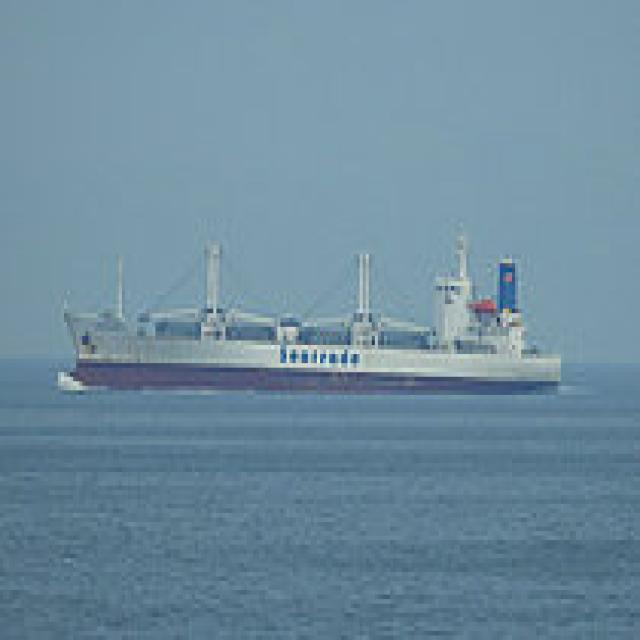Cargo: (58, 213, 561, 386)
